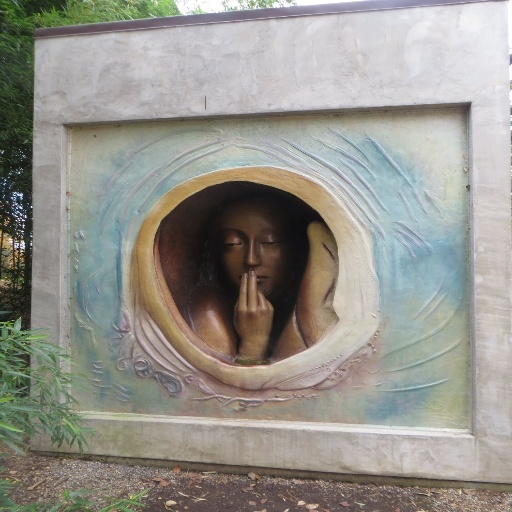hand: (230, 266, 276, 342)
